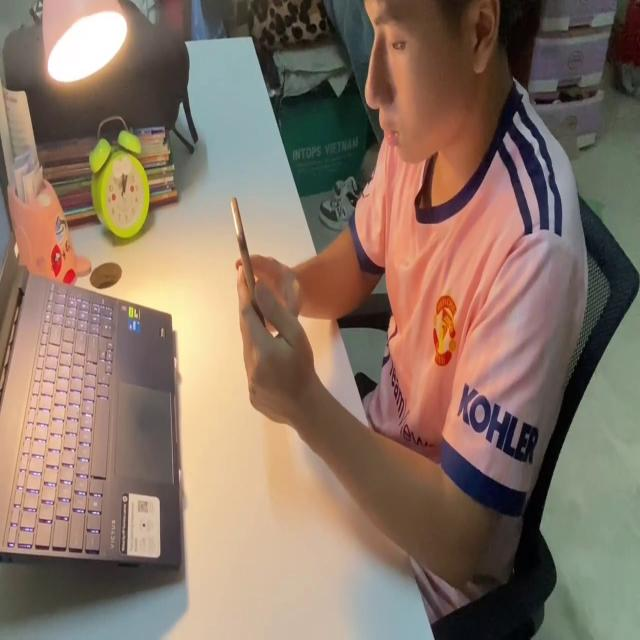laptop: (0, 159, 186, 574)
phone: (229, 188, 268, 332)
student: (238, 0, 582, 602)
